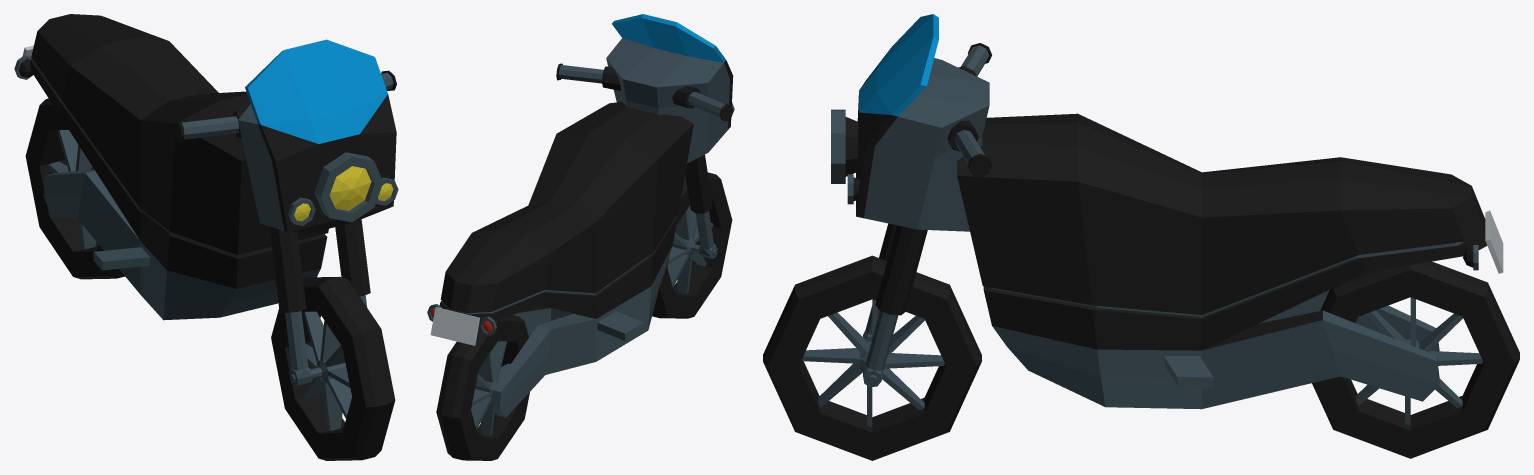
The model's file is moto-5.glb.
3 renders of one model, left to right at view 1: azimuth 30°, elevation 25°; view 2: azimuth 150°, elevation 25°; view 3: azimuth 270°, elevation 25°, orthographic. The views are drawn at different scales.
Visible parts, largest first — view 1: Circle.001_Circle.007; view 2: Circle.001_Circle.007; view 3: Circle.001_Circle.007.
Part boxes in pixels (bbox=[...]): Circle.001_Circle.007: bbox=[14, 14, 398, 460]; Circle.001_Circle.007: bbox=[427, 14, 734, 460]; Circle.001_Circle.007: bbox=[763, 14, 1519, 460].
Size of the model in its own units: 0.6118 by 1.07 by 1.7.
